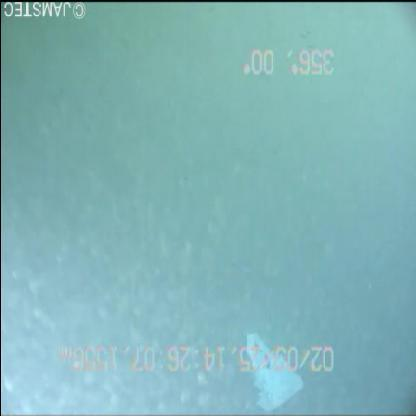Rác: (238, 330, 308, 413)
